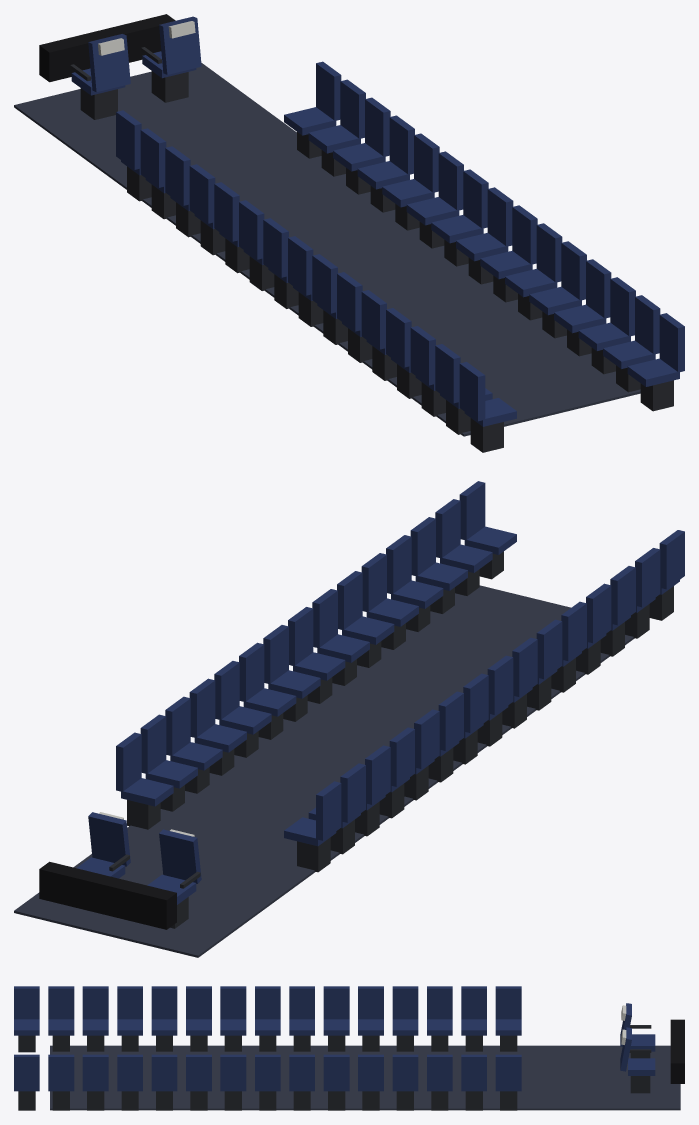
File: lat_heli_tandem_cabin.dae
3 renders of one model, top to bottom at view 1: azimuth 30°, elevation 25°; view 2: azimuth 150°, elevation 25°; view 3: azimuth 270°, elevation 25°, orthographic. The views are drawn at different scales.
Visible parts, largest first — view 1: lat_heli_tandem_cabin64; view 2: lat_heli_tandem_cabin64; view 3: lat_heli_tandem_cabin64.
Part boxes in pixels (box(x1,y1,x2,y2)): lat_heli_tandem_cabin64: box(14, 14, 684, 452); lat_heli_tandem_cabin64: box(14, 481, 684, 957); lat_heli_tandem_cabin64: box(14, 986, 684, 1110).
Size of the model in its own units: 2.92 by 11.7 by 1.11.
